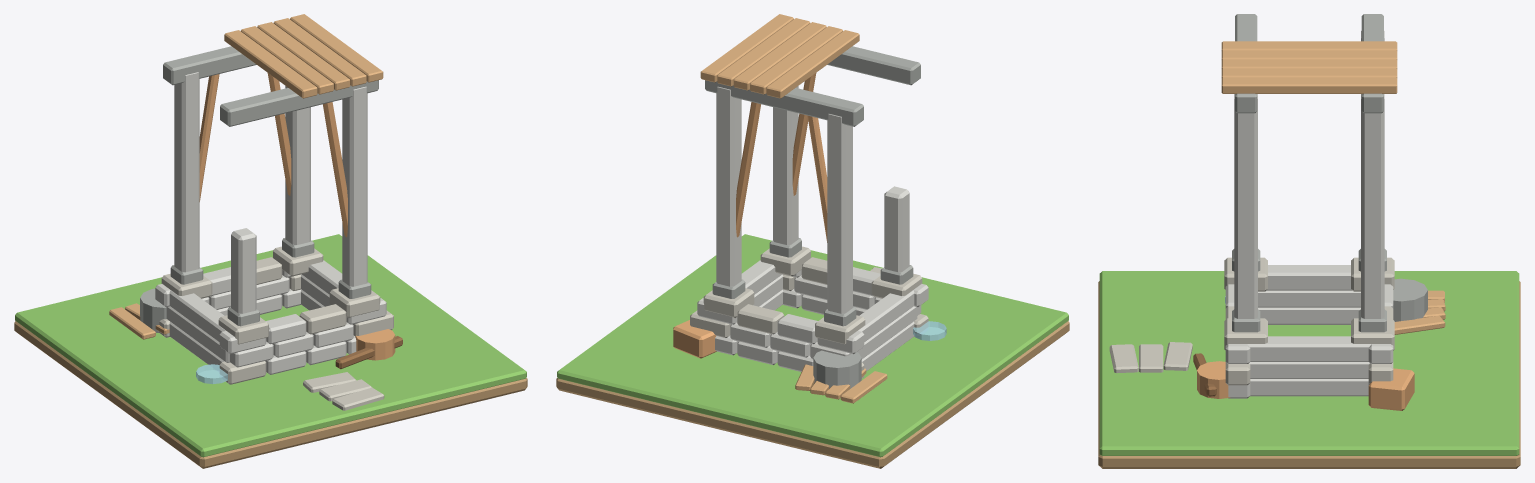
Rendered from tower_l05_damaged_LOD0.glb.
3 views of the same model, side by side, from view 1: azimuth 30°, elevation 25°; view 2: azimuth 150°, elevation 25°; view 3: azimuth 270°, elevation 25° (orthographic). The views are drawn at different scales.
Visible parts, largest first — view 1: tower_l05_grass_tile, tower_l05_earth_tile, post_-0.61_0.54, post_0.61_-0.54, post_0.61_0.54, deck_bearer_-0.54, post_-0.61_-0.54, deck_bearer_0.54, deck_board_4, deck_board_8, deck_board_7, deck_board_6 (+32 smaller); view 2: tower_l05_grass_tile, tower_l05_earth_tile, post_-0.61_0.54, post_0.61_0.54, post_0.61_-0.54, deck_bearer_0.54, post_-0.61_-0.54, deck_bearer_-0.54, deck_board_4, fallen_relay, deck_board_8, deck_board_7 (+26 smaller); view 3: tower_l05_grass_tile, tower_l05_earth_tile, post_0.61_0.54, post_0.61_-0.54, deck_board_8, stone_return_2_0.72, stone_return_2_-0.72, stone_return_0_0.72, stone_return_1_0.72, stone_return_1_-0.72, deck_board_5, deck_board_6 (+22 smaller).
Part boxes in pixels (<box>): tower_l05_grass_tile: <box>15,234,526,457</box>; tower_l05_earth_tile: <box>14,321,527,468</box>; post_-0.61_0.54: <box>174,72,199,272</box>; post_0.61_-0.54: <box>342,86,367,286</box>; post_0.61_0.54: <box>285,86,310,244</box>; deck_bearer_-0.54: <box>220,80,378,126</box>; post_-0.61_-0.54: <box>231,228,256,313</box>; deck_bearer_0.54: <box>163,46,256,85</box>; deck_board_4: <box>224,30,317,98</box>; deck_board_8: <box>290,14,383,82</box>; deck_board_7: <box>273,18,366,86</box>; deck_board_6: <box>257,22,350,90</box>; tower_l05_grass_tile: <box>557,234,1068,457</box>; tower_l05_earth_tile: <box>556,321,1069,468</box>; post_-0.61_0.54: <box>827,114,852,313</box>; post_0.61_0.54: <box>716,86,741,286</box>; post_0.61_-0.54: <box>773,86,798,244</box>; deck_bearer_0.54: <box>705,80,863,126</box>; post_-0.61_-0.54: <box>884,186,909,272</box>; deck_bearer_-0.54: <box>827,46,920,85</box>; deck_board_4: <box>766,30,859,98</box>; fallen_relay: <box>813,350,861,389</box>; deck_board_8: <box>700,14,793,82</box>; deck_board_7: <box>717,18,810,86</box>; tower_l05_grass_tile: <box>1099,271,1519,455</box>; tower_l05_earth_tile: <box>1098,281,1520,468</box>; post_0.61_0.54: <box>1361,94,1384,318</box>; post_0.61_-0.54: <box>1234,94,1257,318</box>; deck_board_8: <box>1221,77,1397,93</box>; stone_return_2_0.72: <box>1247,336,1371,361</box>; stone_return_2_-0.72: <box>1266,265,1352,290</box>; stone_return_0_0.72: <box>1250,379,1368,396</box>; stone_return_1_0.72: <box>1249,362,1369,378</box>; stone_return_1_-0.72: <box>1258,290,1360,307</box>; deck_board_5: <box>1221,50,1397,59</box>; deck_board_6: <box>1221,59,1397,68</box>.
Bounding box in the file's own units: 3.6 × 3.17 × 3.6.
